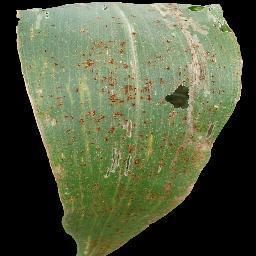Corn_Common_Rust: (17, 0, 253, 251)
